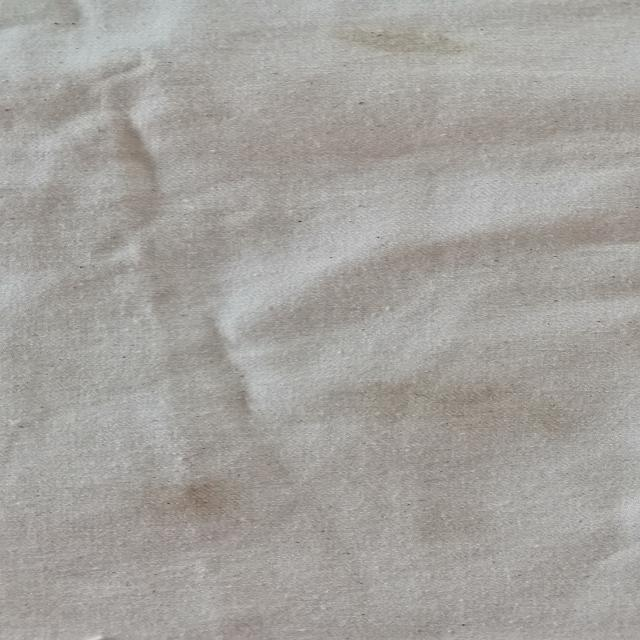taaaches: (266, 373, 626, 443), (373, 475, 516, 562), (106, 462, 263, 536), (321, 11, 496, 66)
